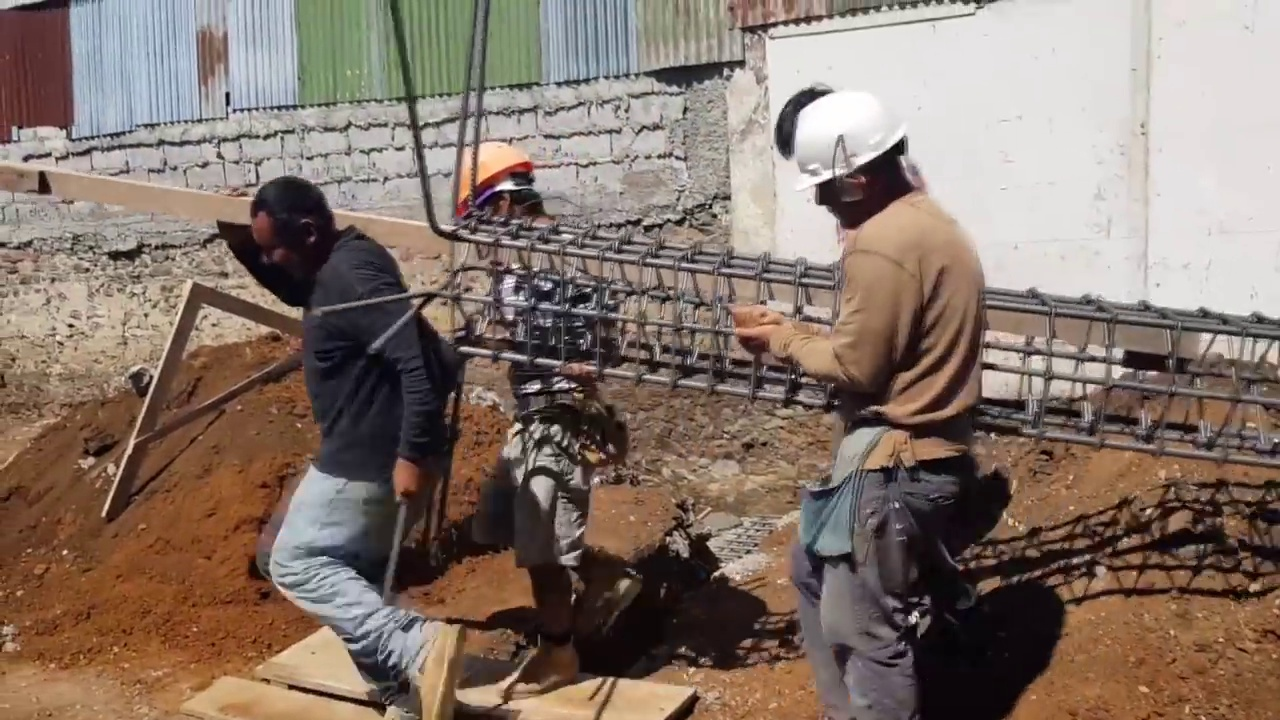helmet: (774, 89, 903, 199), (449, 144, 536, 210)
helmet-off: (240, 171, 328, 280)
helmet-on: (782, 84, 925, 236), (452, 136, 556, 244)
person: (738, 90, 986, 704), (222, 165, 469, 720), (466, 125, 620, 684)
